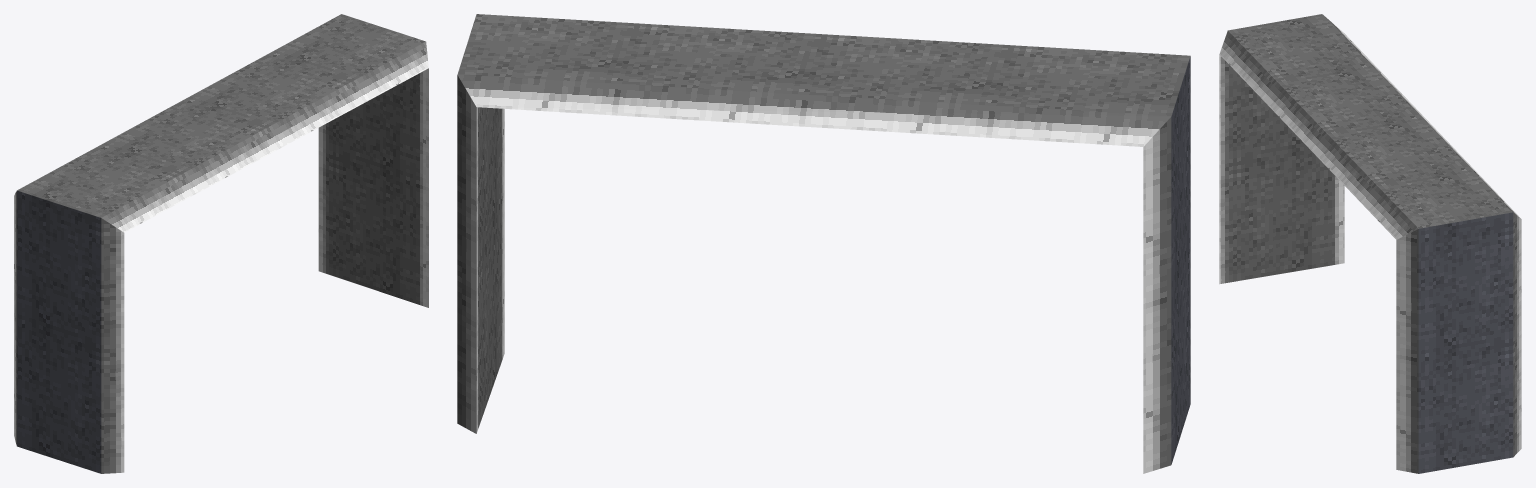
The model's file is primary_047.glb.
The picture shows the model from 3 angles, left to right: view 1: azimuth 30°, elevation 25°; view 2: azimuth 150°, elevation 25°; view 3: azimuth 270°, elevation 25°; orthographic projection. The views are drawn at different scales.
Visible parts, largest first — view 1: Object; view 2: Object; view 3: Object.
Part boxes in pixels (x1,y1,x2,y2): Object: [14, 14, 428, 473]; Object: [457, 14, 1190, 473]; Object: [1219, 14, 1521, 473].
Size of the model in its own units: 0.6801 by 0.3619 by 0.4043.
Materials: 3 (3 with a texture image).
